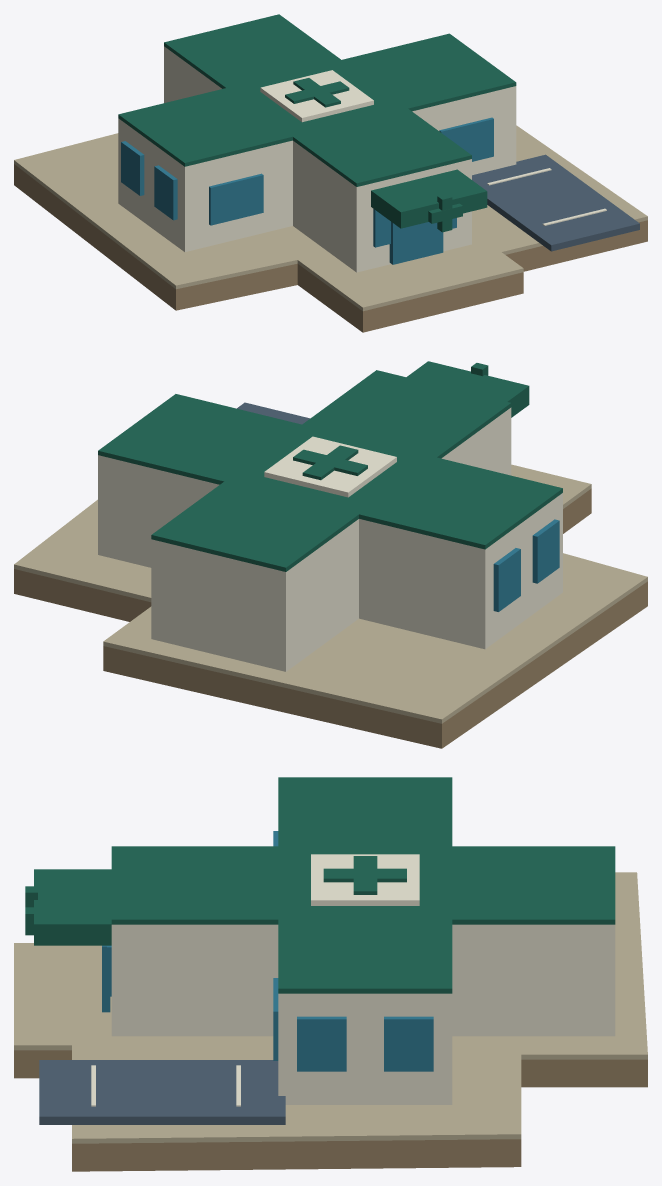
File: medical-center-lv1.glb
The picture shows the model from 3 angles, top to bottom: view 1: azimuth 30°, elevation 25°; view 2: azimuth 150°, elevation 25°; view 3: azimuth 270°, elevation 25°; orthographic projection. The views are drawn at different scales.
Parts seen in each view (by area): view 1: cross_clinic_jade, cross_clinic_white, foundation_paving, foundation_stoneDark, ambulance_lane_slate, clinic_windows_glass, entry_canopy_jade, roof_mark_white, side_clinic_windows_glass, clinic_entry_glass, roof_mark_jade, medical_mark_jade; view 2: cross_clinic_white, cross_clinic_jade, foundation_paving, foundation_stoneDark, roof_mark_white, side_clinic_windows_glass, entry_canopy_jade, roof_mark_jade, ambulance_lane_slate; view 3: cross_clinic_jade, cross_clinic_white, foundation_paving, foundation_stoneDark, ambulance_lane_slate, entry_canopy_jade, side_clinic_windows_glass, roof_mark_white, roof_mark_jade, clinic_windows_glass.
Boxes of the visible parts, x1,y1,x2,y2 form: cross_clinic_jade: [118, 14, 516, 186]; cross_clinic_white: [118, 46, 516, 272]; foundation_paving: [14, 125, 647, 311]; foundation_stoneDark: [14, 164, 647, 332]; ambulance_lane_slate: [472, 154, 639, 251]; clinic_windows_glass: [209, 117, 493, 247]; entry_canopy_jade: [371, 169, 487, 228]; roof_mark_white: [260, 70, 373, 122]; side_clinic_windows_glass: [121, 141, 177, 220]; clinic_entry_glass: [389, 222, 443, 264]; roof_mark_jade: [285, 78, 349, 107]; medical_mark_jade: [428, 194, 462, 232]; cross_clinic_white: [98, 407, 562, 671]; cross_clinic_jade: [98, 370, 562, 571]; foundation_paving: [14, 464, 647, 723]; foundation_stoneDark: [14, 488, 647, 748]; roof_mark_white: [264, 436, 396, 497]; side_clinic_windows_glass: [493, 519, 559, 611]; entry_canopy_jade: [406, 361, 529, 417]; roof_mark_jade: [293, 445, 367, 480]; ambulance_lane_slate: [237, 402, 309, 424]; cross_clinic_jade: [111, 777, 615, 993]; cross_clinic_white: [111, 924, 615, 1104]; foundation_paving: [14, 872, 647, 1143]; foundation_stoneDark: [14, 1050, 647, 1171]; ambulance_lane_slate: [39, 1060, 285, 1124]; entry_canopy_jade: [34, 869, 111, 945]; side_clinic_windows_glass: [297, 1016, 433, 1071]; roof_mark_white: [311, 854, 419, 905]; roof_mark_jade: [323, 856, 406, 894]; clinic_windows_glass: [107, 831, 278, 1060].
Size of the model in its own units: 1 by 0.2729 by 0.9887.
